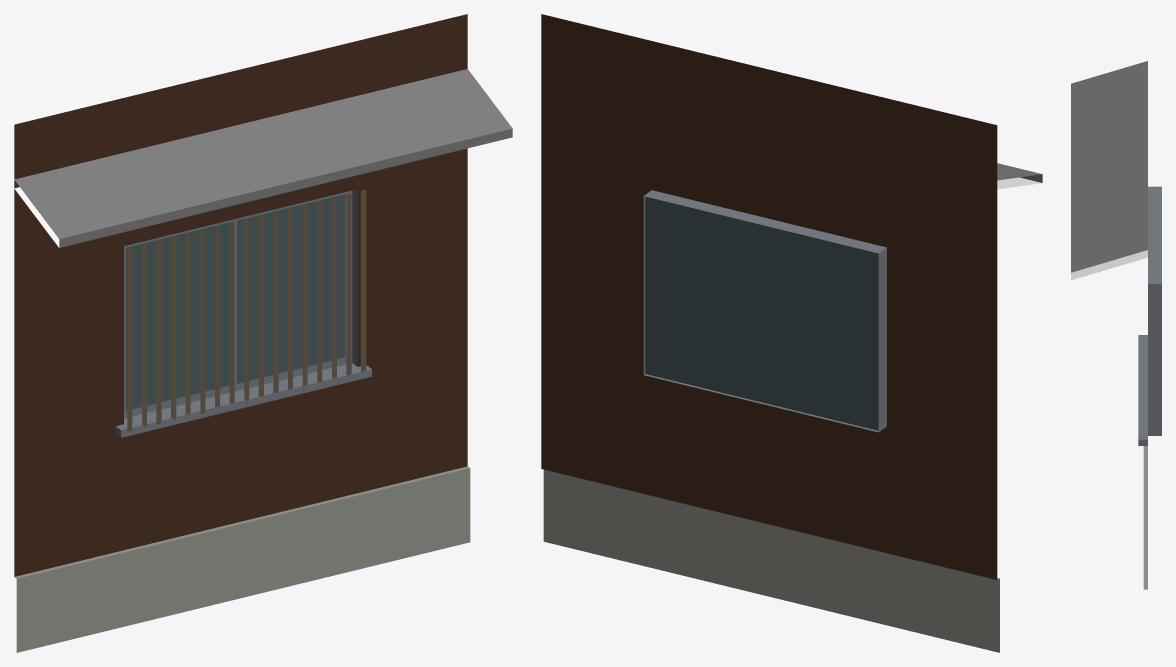
The picture shows the model from 3 angles, left to right: view 1: azimuth 30°, elevation 25°; view 2: azimuth 150°, elevation 25°; view 3: azimuth 270°, elevation 25°; orthographic projection. The views are drawn at different scales.
Visible parts, largest first — view 1: a2000/0/base-w1; view 2: a2000/0/base-w1; view 3: a2000/0/base-w1.
Part boxes in pixels (left/top/right/bottom): a2000/0/base-w1: left=14, top=14, right=512, bottom=652; a2000/0/base-w1: left=541, top=14, right=1042, bottom=652; a2000/0/base-w1: left=1071, top=61, right=1161, bottom=589.
Bounding box in the file's own units: 3.2 × 3.55 × 0.65.
